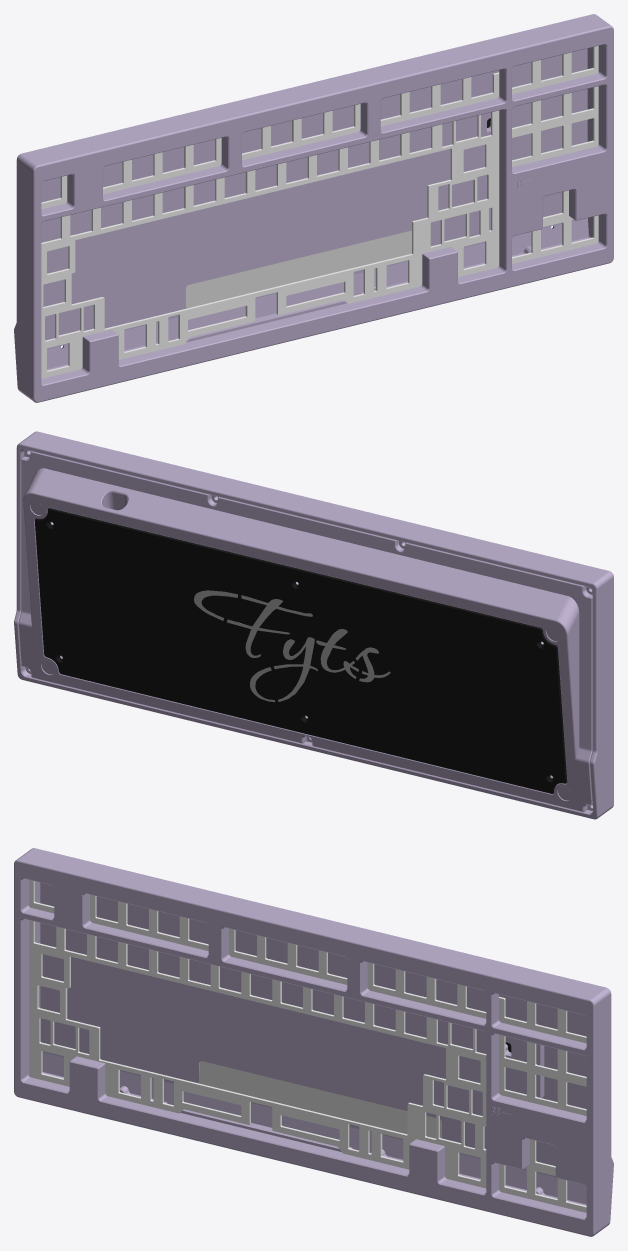
Rendered from fytsno1-fyts.fbx.
3 renders of one model, top to bottom at view 1: azimuth 30°, elevation 25°; view 2: azimuth 150°, elevation 25°; view 3: azimuth 330°, elevation 25°, orthographic.
Visible parts, largest first — view 1: Top, Bottom, Plate, Insert; view 2: Backplate, Bottom, Top, Insert; view 3: Top, Bottom, Plate, Insert.
Part boxes in pixels (x1=…): Top: x1=14, y1=14, x2=613, y2=402; Bottom: x1=41, y1=47, x2=592, y2=370; Plate: x1=41, y1=46, x2=598, y2=378; Insert: x1=186, y1=230, x2=411, y2=308; Backplate: x1=34, y1=508, x2=567, y2=793; Bottom: x1=18, y1=449, x2=592, y2=812; Top: x1=14, y1=431, x2=613, y2=819; Insert: x1=194, y1=590, x2=390, y2=701; Top: x1=14, y1=848, x2=613, y2=1236; Bottom: x1=35, y1=881, x2=586, y2=1205; Plate: x1=29, y1=880, x2=586, y2=1212; Insert: x1=198, y1=1061, x2=441, y2=1138.
Bounding box in the file's own units: 359 × 140 × 32.02.
